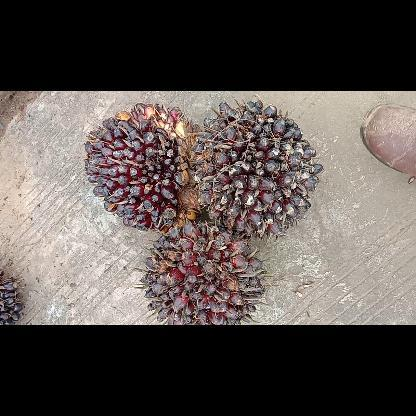TBS mentah: (192, 100, 322, 240), (81, 100, 205, 236), (138, 218, 268, 324)
